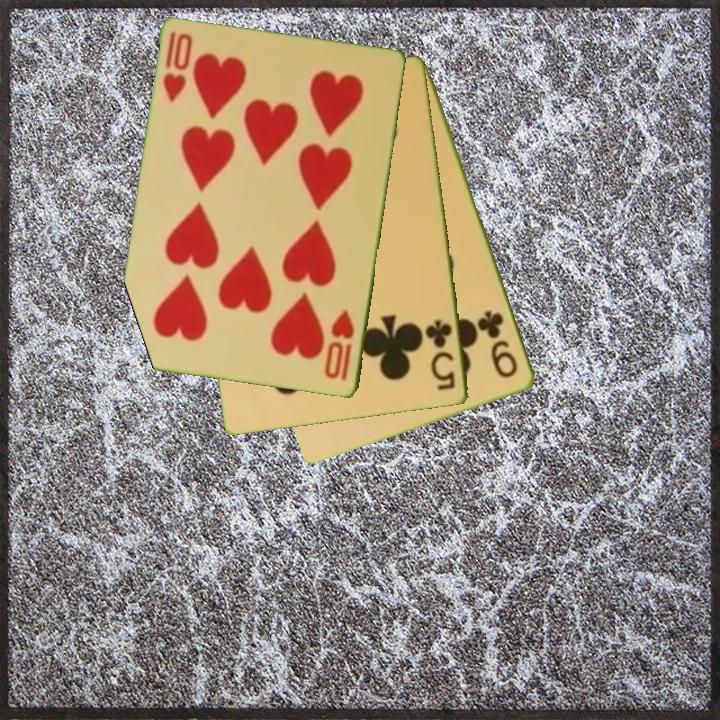10h: (322, 306, 358, 384), (160, 29, 196, 105)
5c: (422, 316, 459, 394)
9c: (477, 307, 521, 381)
